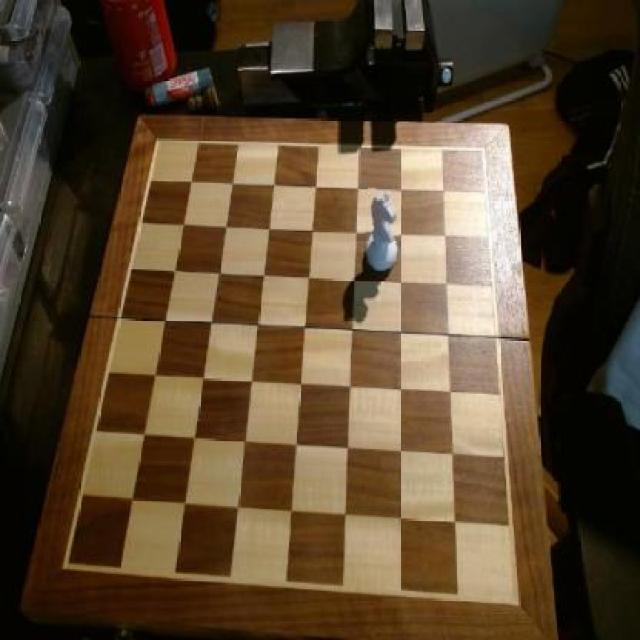white-king: (364, 190, 400, 276)
